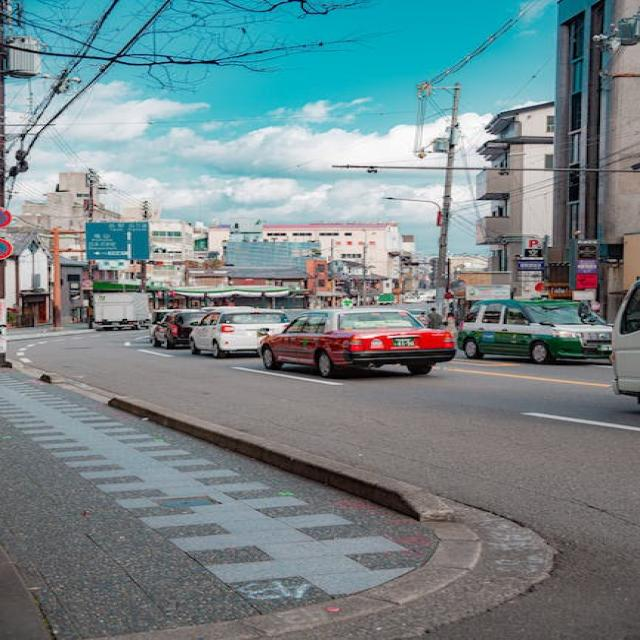no stopping: (0, 205, 17, 230)
